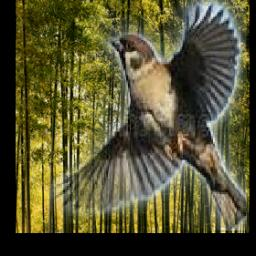Sparrow: (51, 1, 248, 231)
